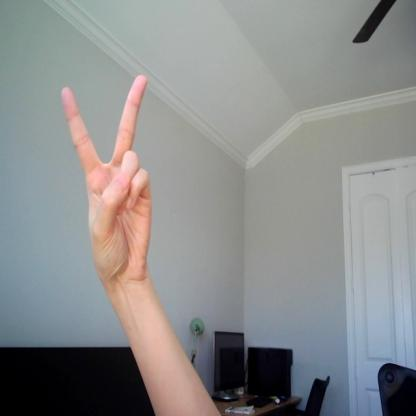V: (58, 74, 158, 291)
